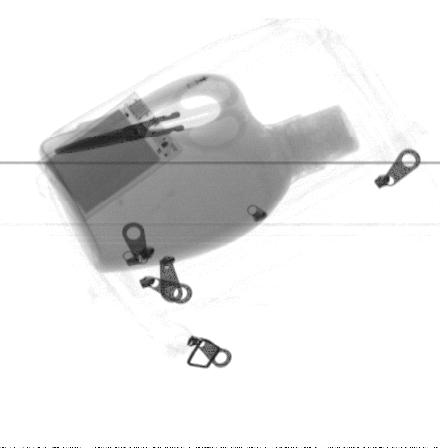Powerbank: (36, 89, 184, 224)
Scissors: (50, 75, 249, 158)
